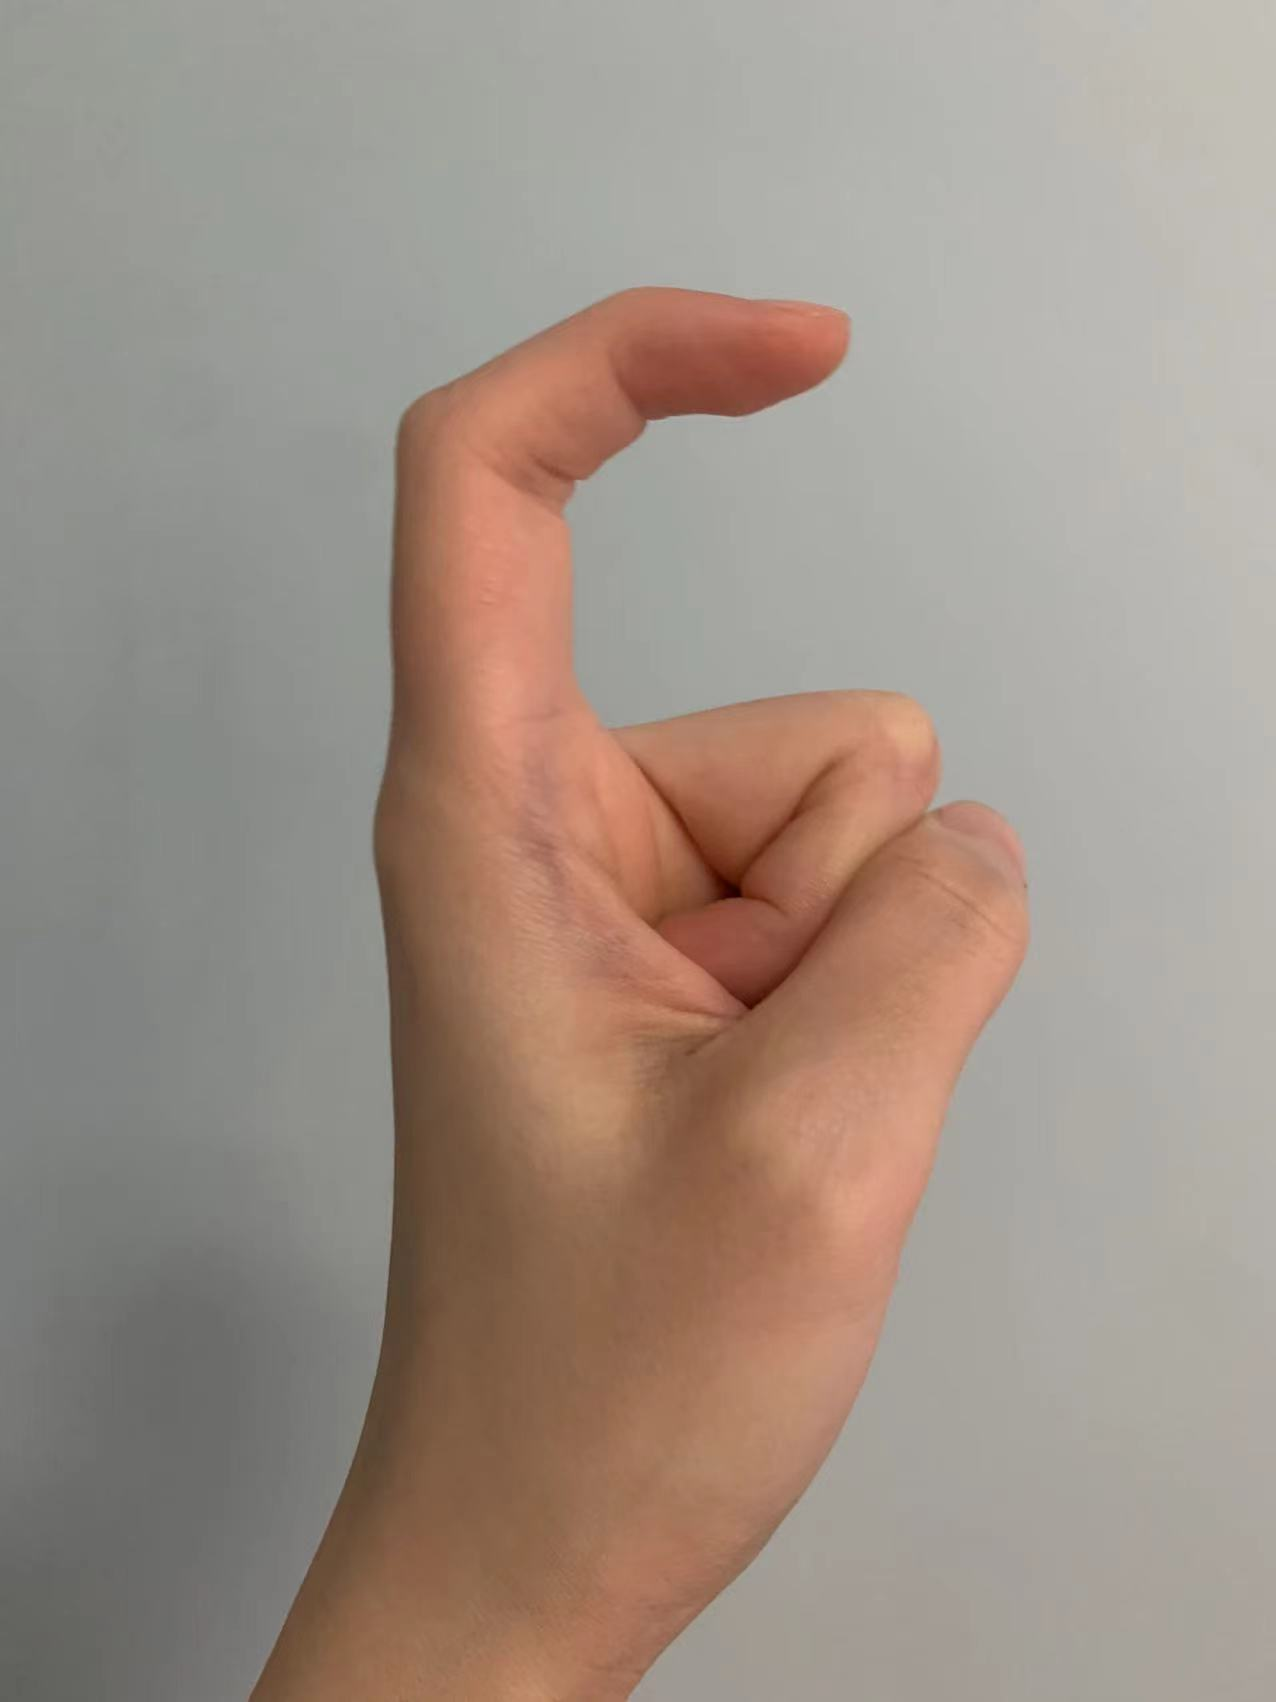anticlockwise: (314, 267, 1045, 1606)
